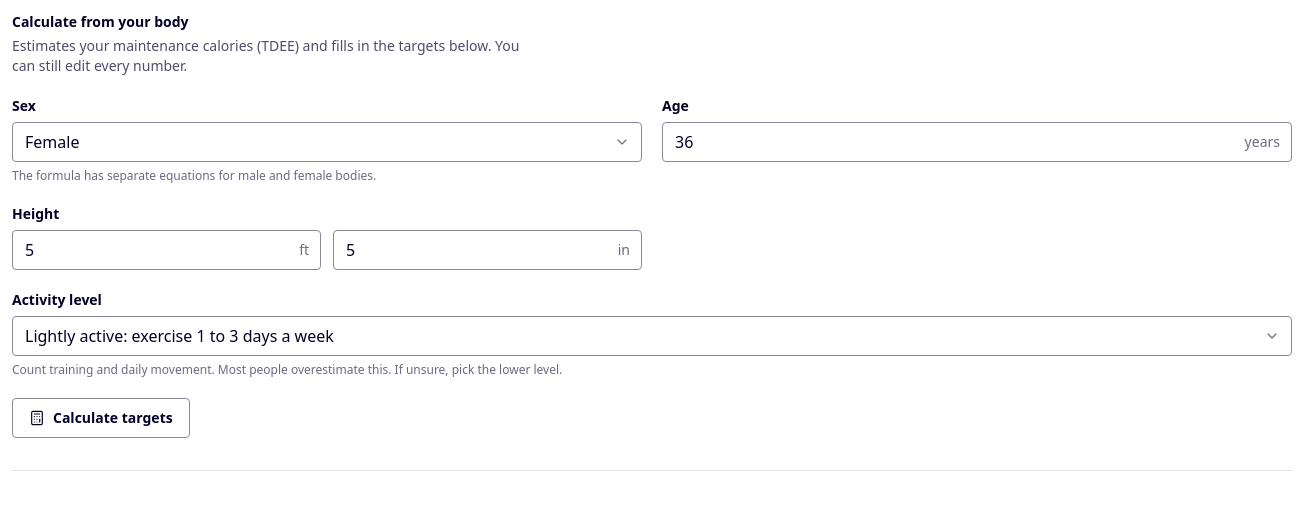
Scenario: TargetCalculator › asks for body weight elsewhere on the page when it is missing
This screenshot has width=1304, height=524.
Expected: the number field named "Feet" next to "ft" holds "5", [12, 230, 321, 270]
Expected: the 2nd number field named "Inches" holds "5", [333, 230, 642, 270]
Step 1. Click the button "Calculate targets" → (101, 418), box [12, 398, 190, 438]
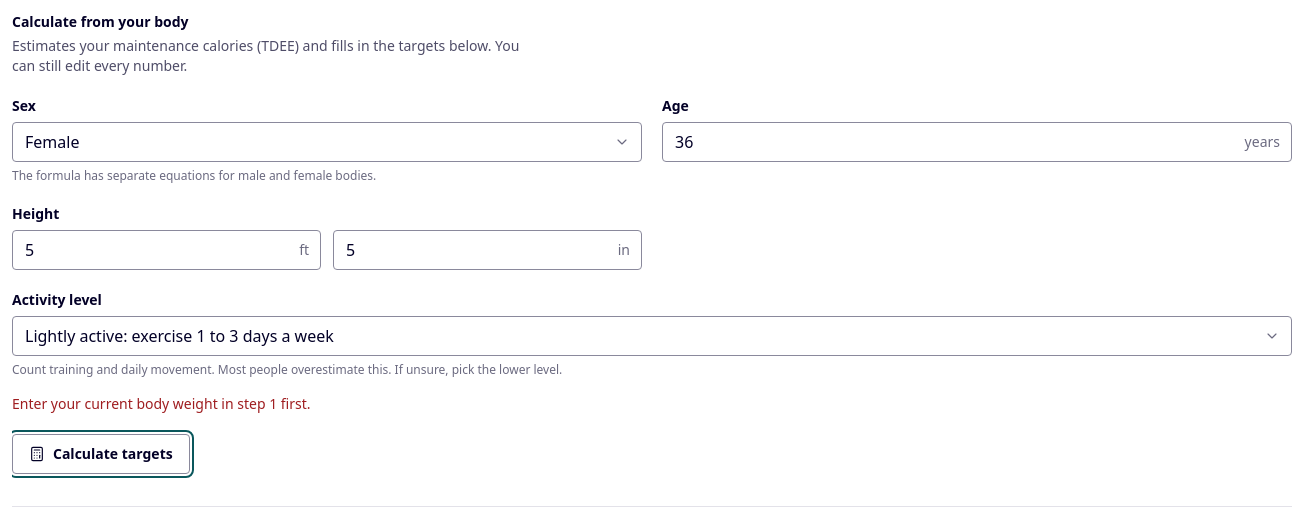
Expected: the message shows "Enter your current body weight in step 1 first", [12, 394, 307, 413]
